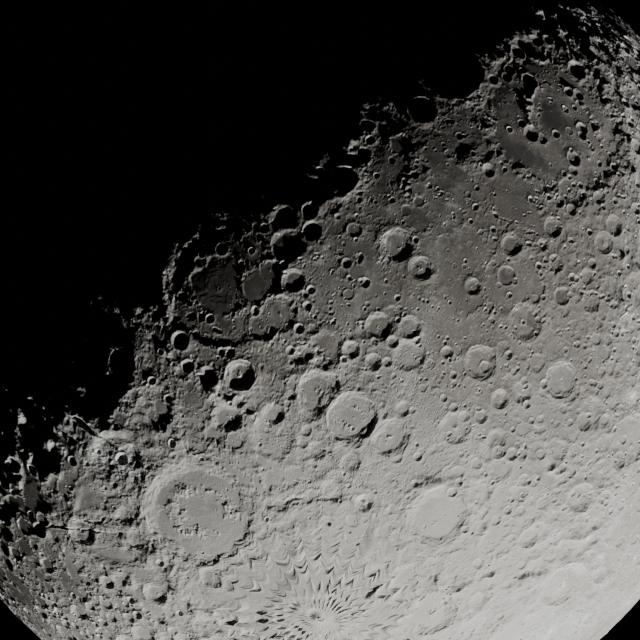crater: (323, 392, 384, 444), (382, 228, 418, 264), (212, 402, 248, 438), (273, 230, 305, 263), (222, 362, 256, 392), (278, 268, 310, 294), (517, 71, 540, 104), (409, 254, 438, 280), (567, 55, 590, 84), (168, 330, 195, 354), (501, 232, 526, 256), (518, 122, 542, 144), (546, 216, 564, 238)
rock: (417, 263, 425, 275)
